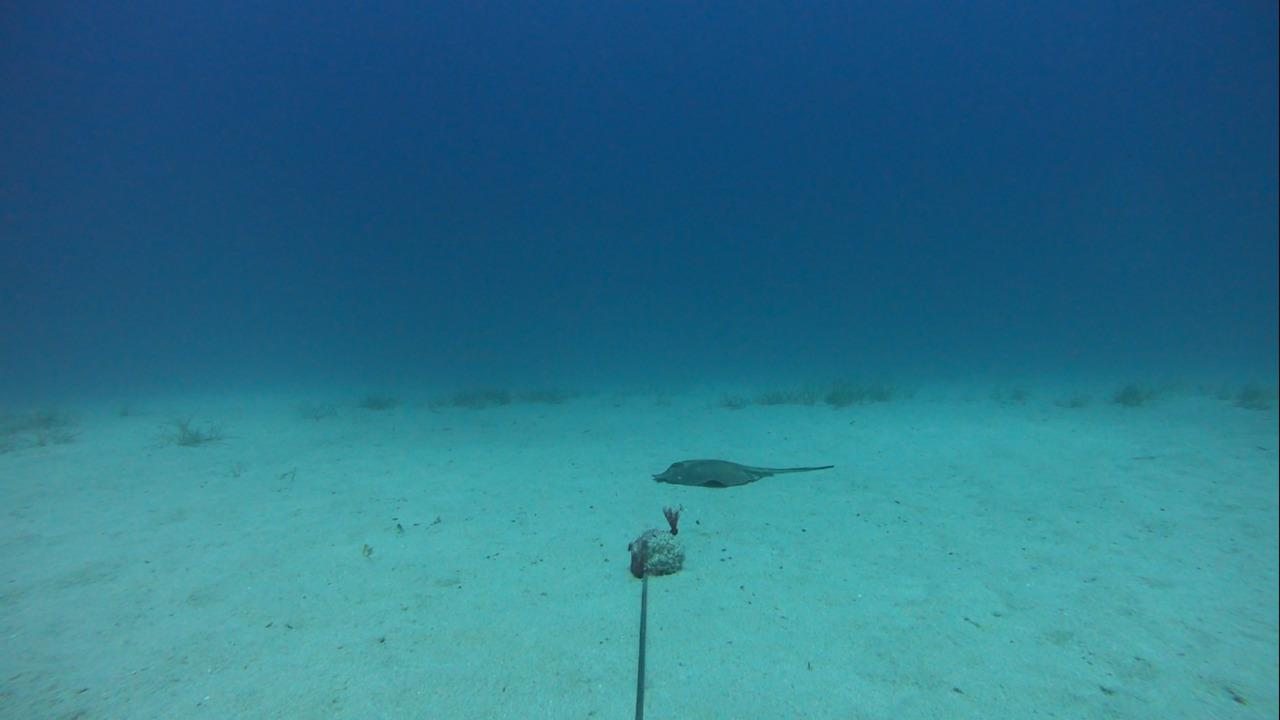myliobatis: (647, 451, 840, 494)
